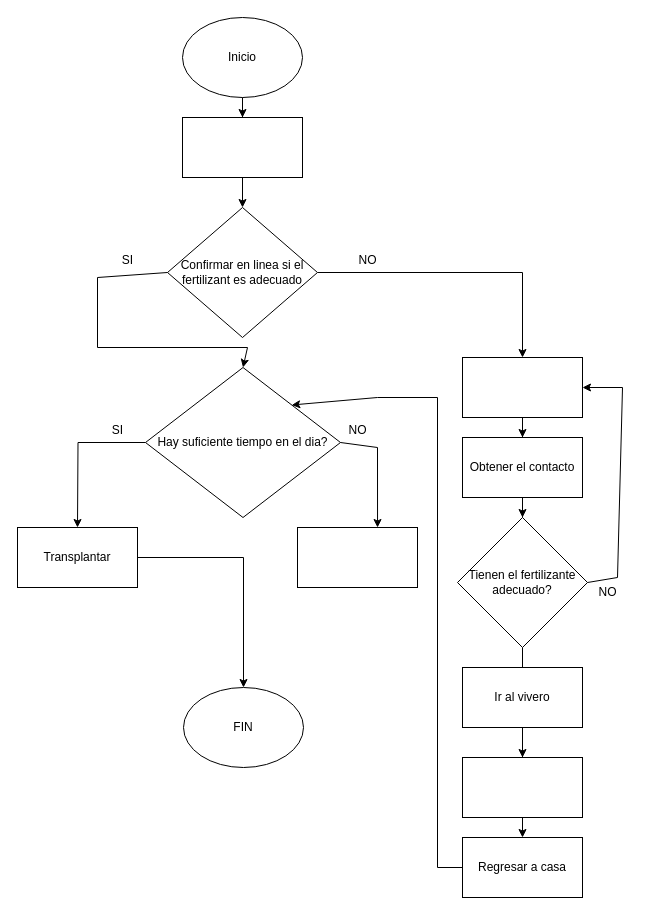
Some shapes in this 648 by 915 pixel diagram are drawn without their labels. The shapes that lost their labels are listed below. From the top down, each one's centre as x and y in pixels, then its label:
At pixel 242 147: "Obtener instrucciones en el internet".
At pixel 522 387: "Ubicar el vivero mas cercano".
At pixel 357 557: "Intentar el dia siguiente".
At pixel 522 787: "Comprar el fertilizante".
